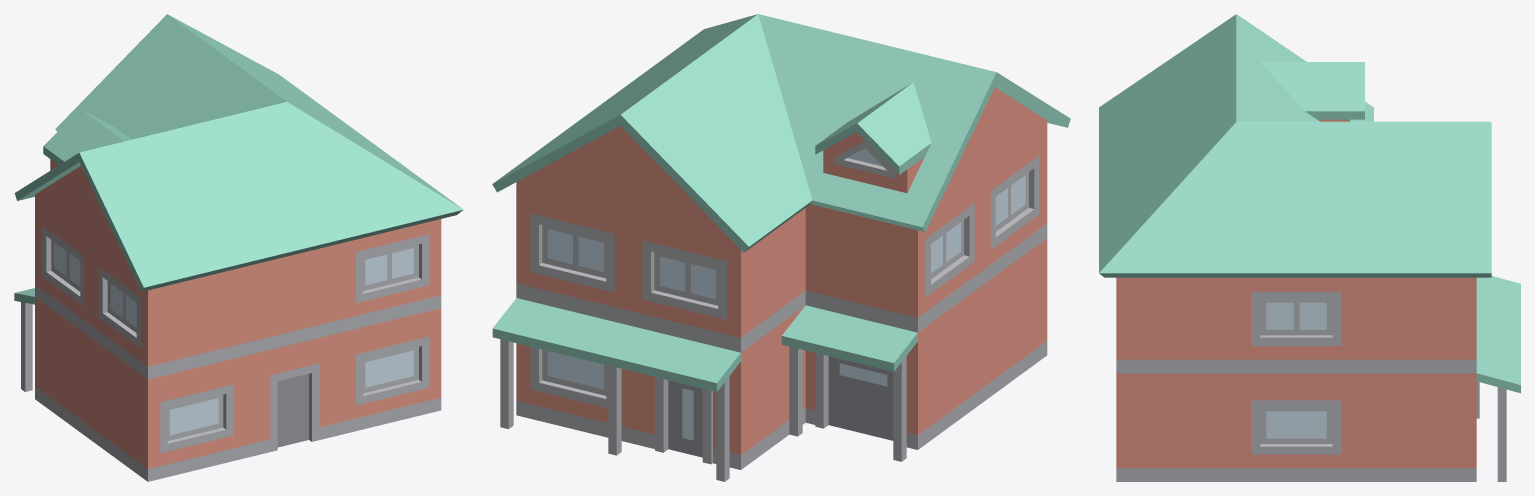
The model's file is Two story house-hmXhiLDf8D.glb.
3 views of the same model, side by side, from view 1: azimuth 30°, elevation 25°; view 2: azimuth 150°, elevation 25°; view 3: azimuth 270°, elevation 25° (orthographic). The views are drawn at different scales.
Parts seen in each view (by area): view 1: house_type02; view 2: house_type02; view 3: house_type02.
Boxes of the visible parts, x1,y1,x2,y2 form: house_type02: (14, 14, 463, 481); house_type02: (492, 14, 1070, 481); house_type02: (1099, 14, 1520, 481).
Size of the model in its own units: 1.31 by 1.14 by 1.41.
